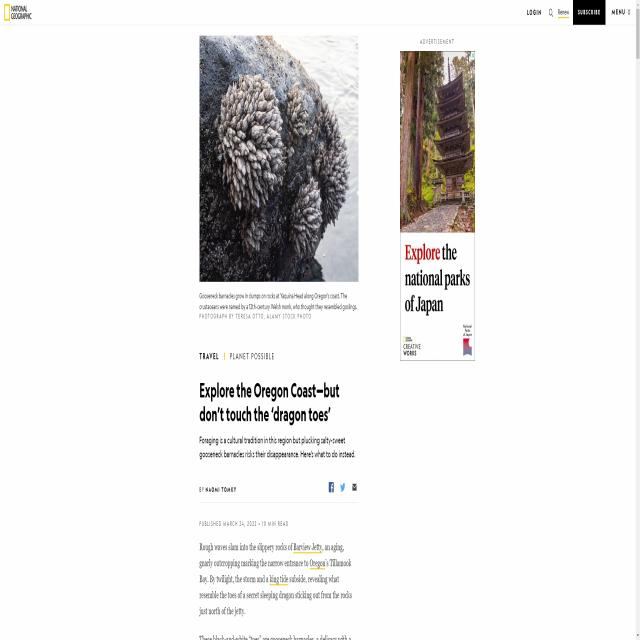menu-bar: (525, 2, 632, 23)
